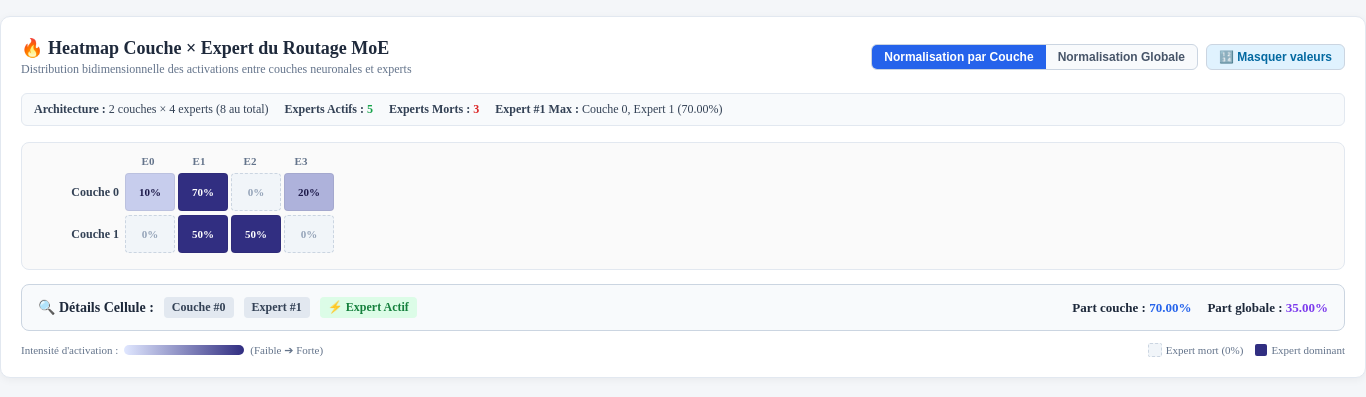
Scenario: LayerExpertHeatmap Component › updates the tooltip / details bar on cell hover with layer, expert, percentage and status
expect the element with test id "heatmap-tooltip" is shown: met, box 21,284 -> 1345,331
Hover on cell (layer 0, expert 1 - active 70%)
Hover over the cell with test id "heatmap-cell-0-1" at coordinates (203, 192), box 178,173 -> 228,211
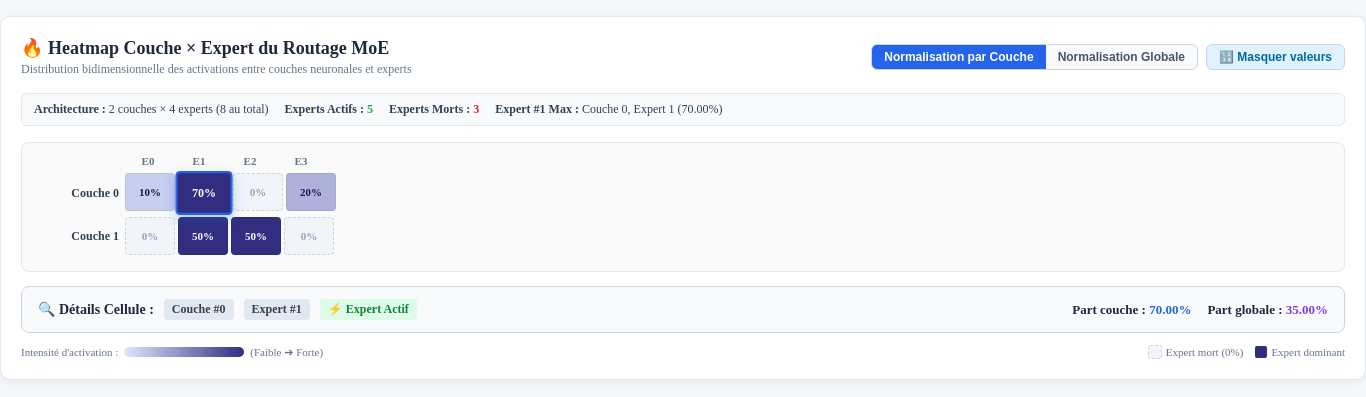
expect the element with test id "heatmap-tooltip" shows "Couche #0": met, box 21,286 -> 1345,333
expect the element with test id "heatmap-tooltip" shows "Expert #1": met, box 21,286 -> 1345,333
Hover on cell (layer 1, expert 0 - dead 0%)
Hover over the cell with test id "heatmap-cell-1-0" at coordinates (150, 236), box 125,217 -> 175,255
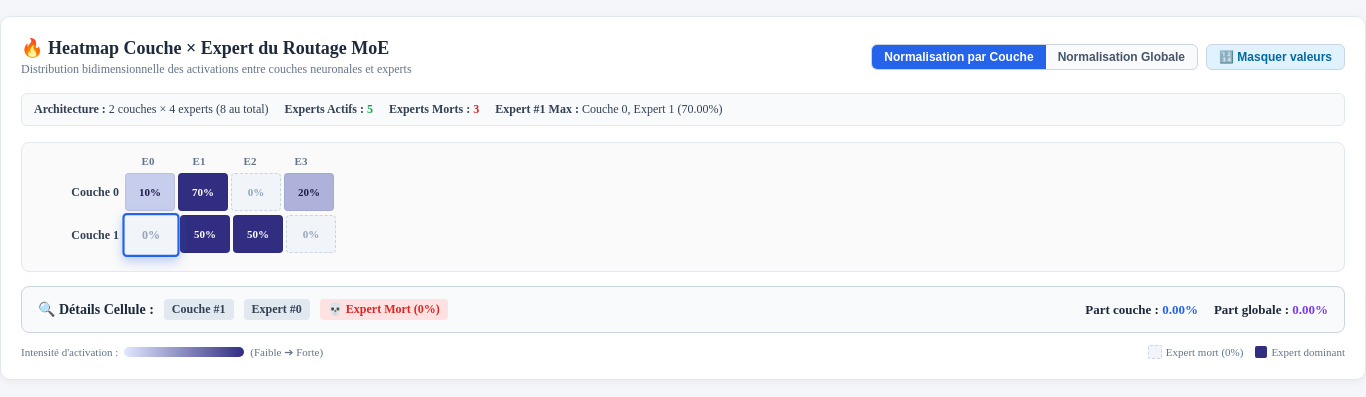
expect the element with test id "heatmap-tooltip" shows "Couche #1": met, box 21,286 -> 1345,333
expect the element with test id "heatmap-tooltip" shows "Expert #0": met, box 21,286 -> 1345,333
expect the element with test id "heatmap-tooltip" shows "Expert Mort": met, box 328,302 -> 440,316
